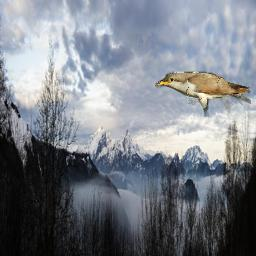Cuckoo: (155, 71, 251, 117)
